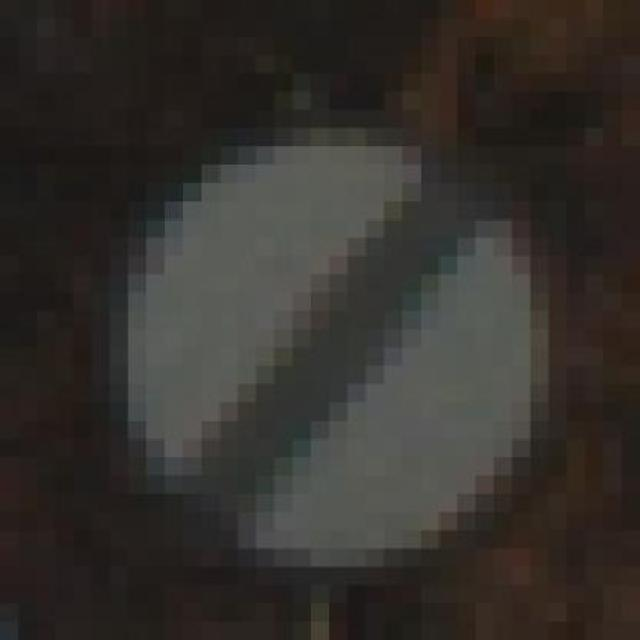End of all speed and passing limits: (128, 73, 568, 585)
